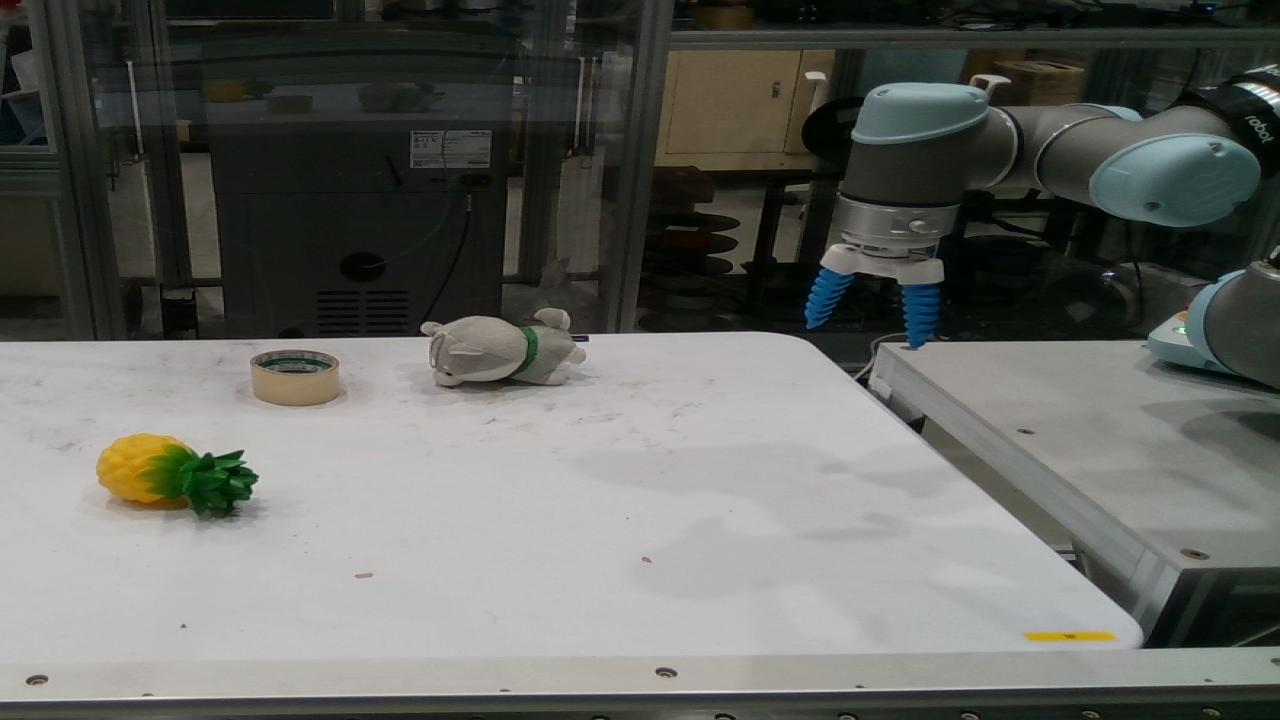UR5: (821, 62, 1279, 286), (1185, 241, 1279, 389)
gripper_left: (807, 269, 850, 329)
gripper_right: (901, 283, 939, 349)
target: (95, 433, 260, 518), (421, 308, 587, 388), (250, 349, 340, 405)
